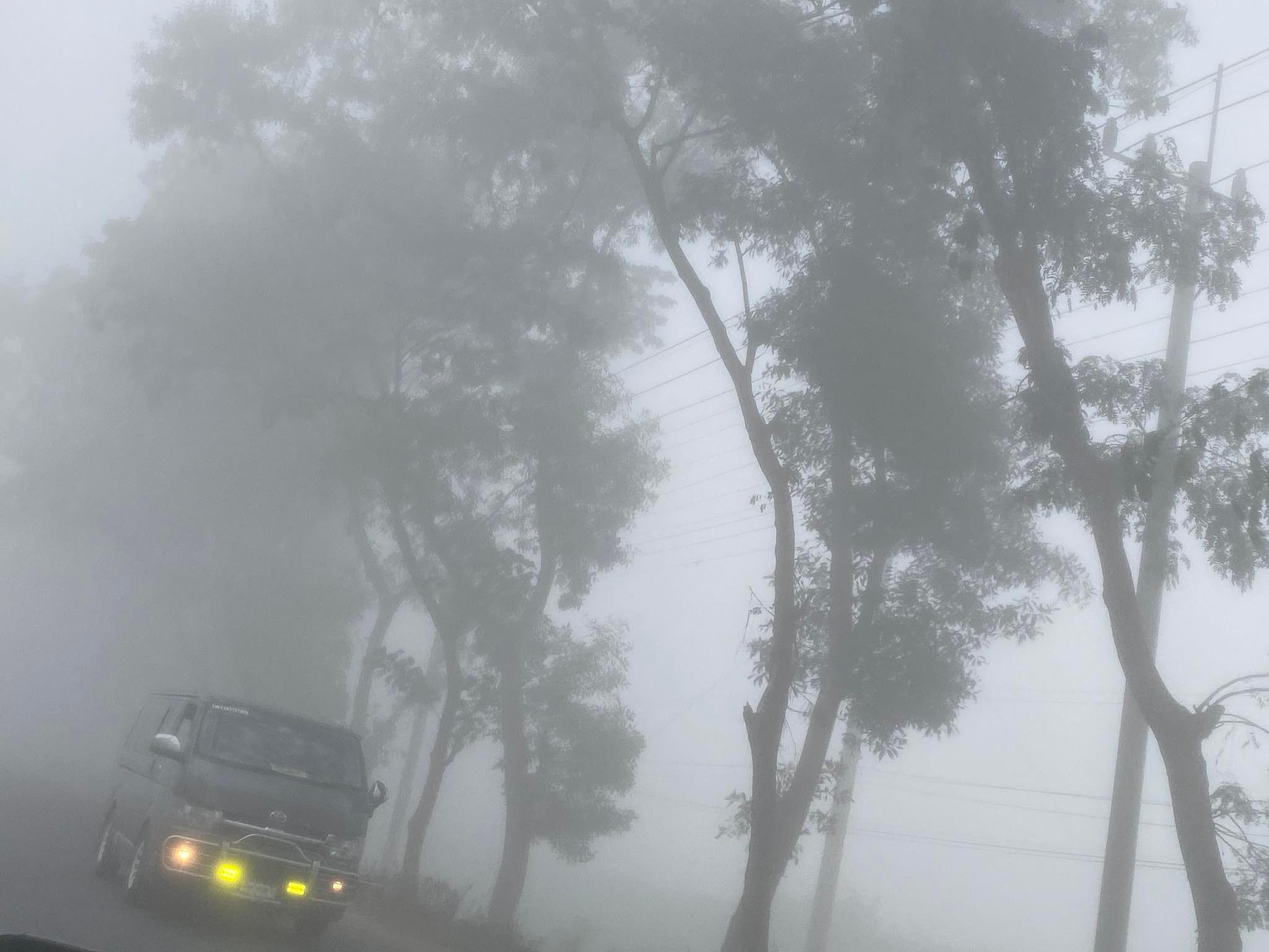Car: (94, 682, 395, 947)
